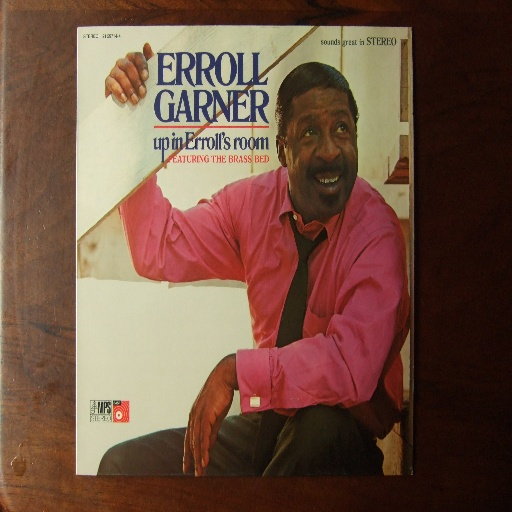hand: (179, 356, 245, 469), (104, 40, 155, 107)
